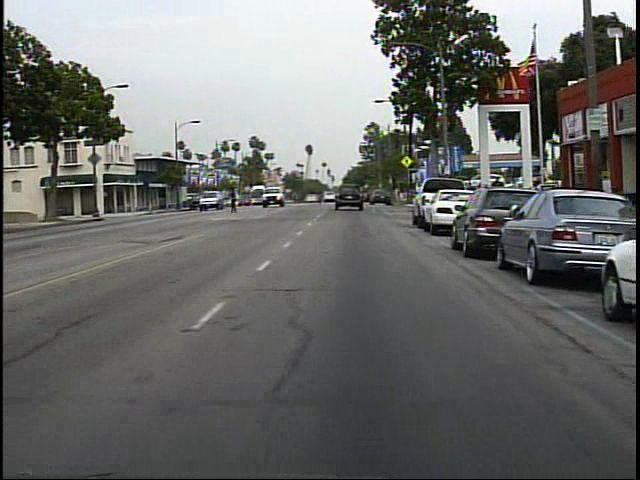person: (487, 172, 511, 220), (229, 183, 244, 218)
